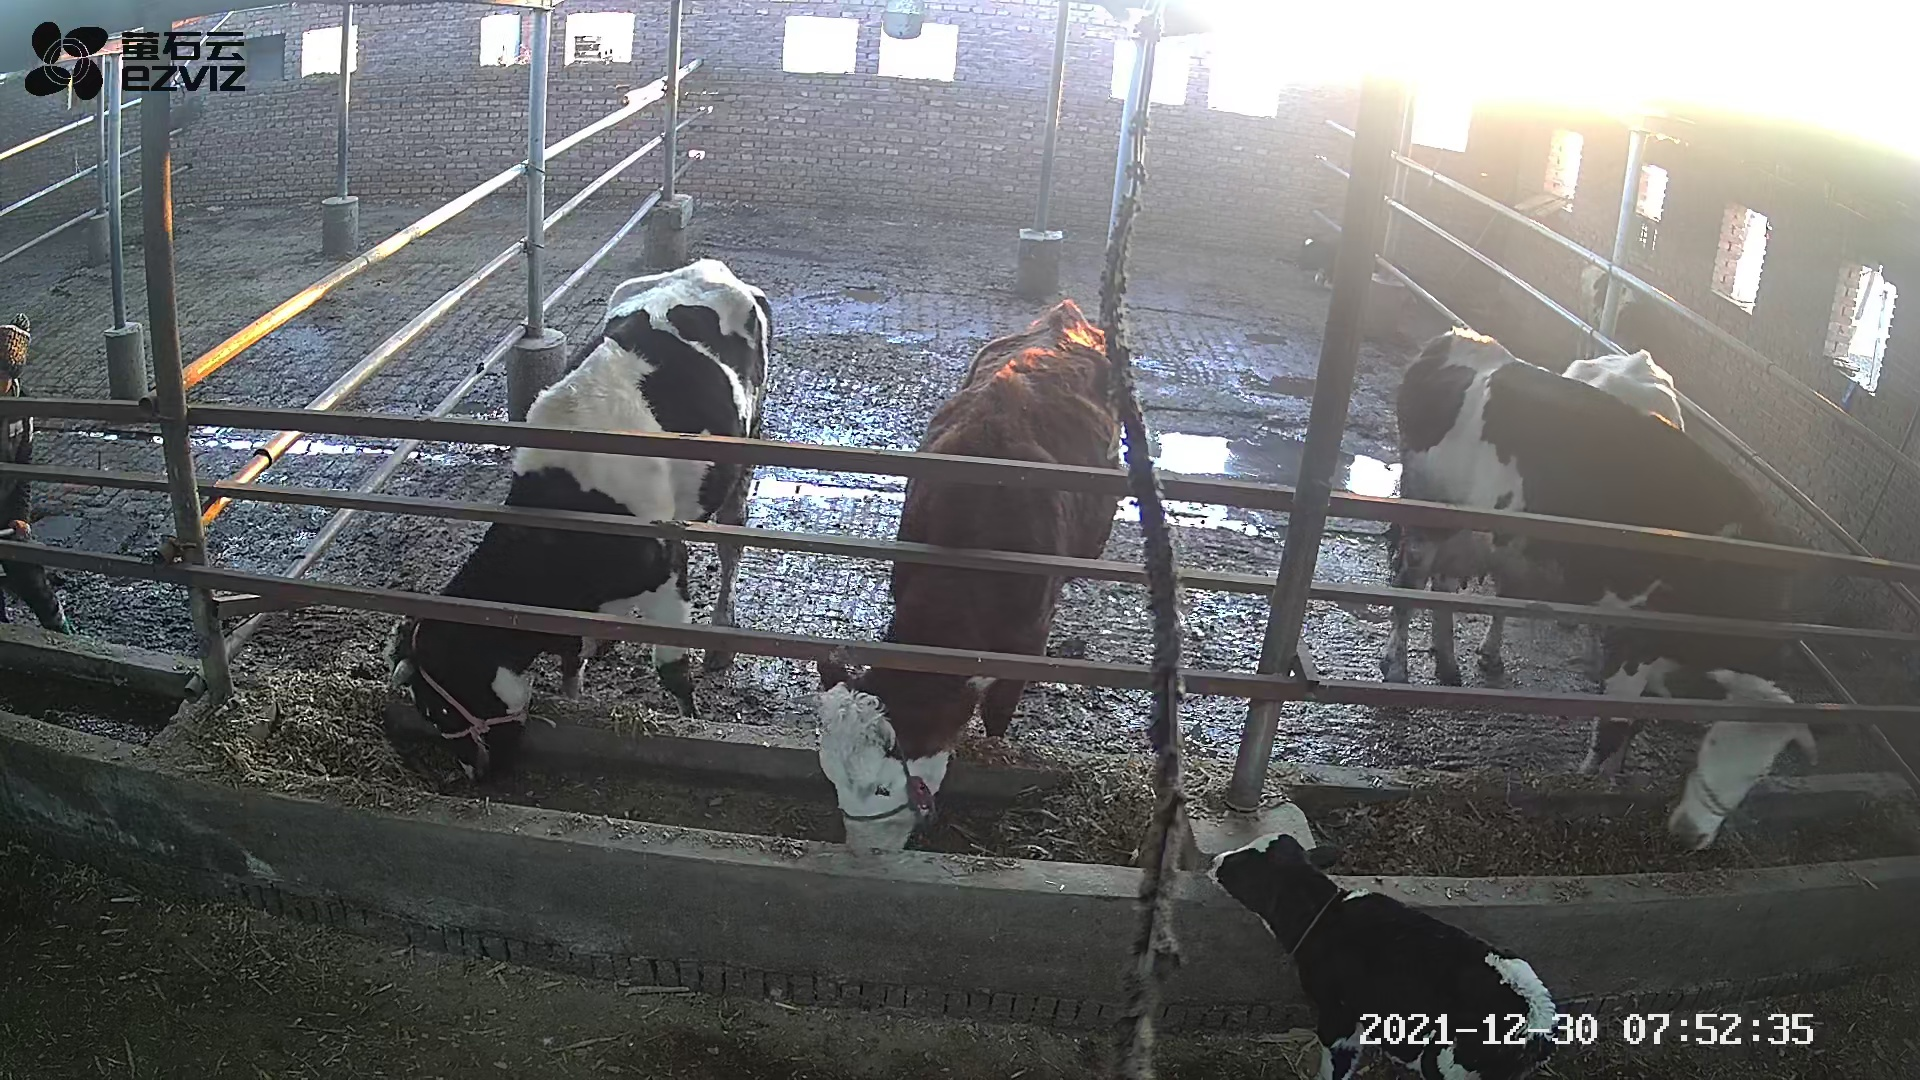cow: (1377, 323, 1824, 852), (381, 256, 774, 798), (818, 295, 1124, 851), (1472, 348, 1684, 682)
